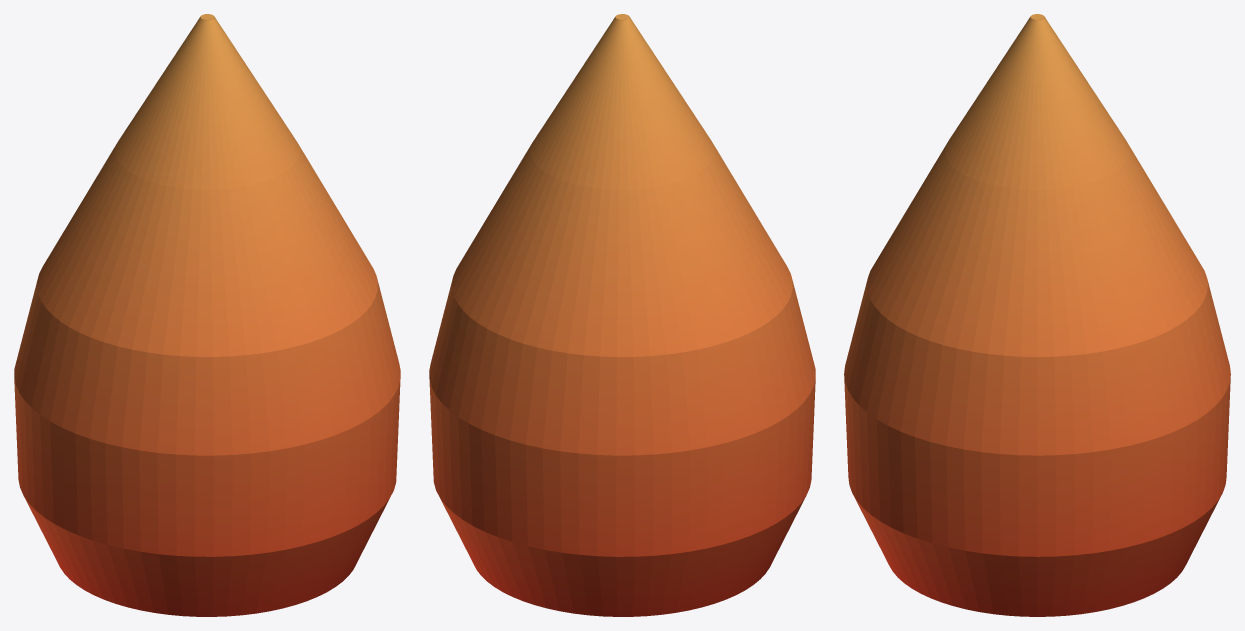
File: flame.obj
The picture shows the model from 3 angles, left to right: view 1: azimuth 30°, elevation 25°; view 2: azimuth 150°, elevation 25°; view 3: azimuth 270°, elevation 25°; orthographic projection.
Parts seen in each view (by area): view 1: Cylinder; view 2: Cylinder; view 3: Cylinder.
Part boxes in pixels (bbox=[...]): Cylinder: bbox=[14, 14, 400, 616]; Cylinder: bbox=[429, 14, 815, 616]; Cylinder: bbox=[844, 14, 1230, 616].
Size of the model in its own units: 1.31 by 2 by 1.31.
1 material, 1 textured.
